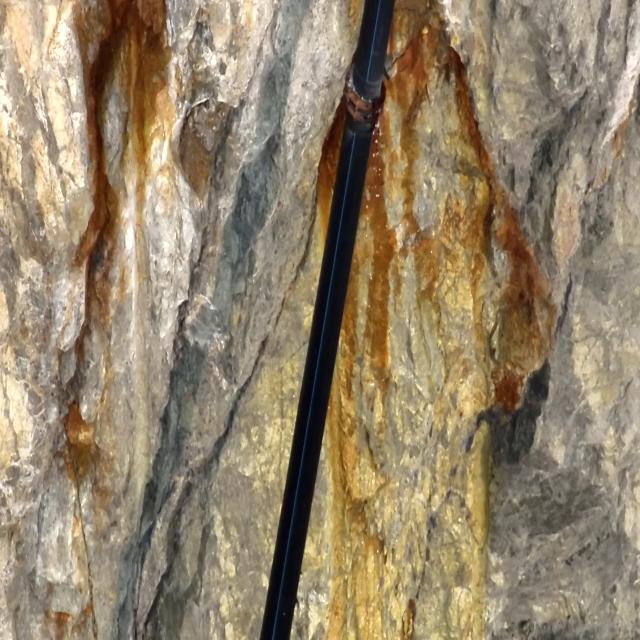leak: (369, 103, 385, 221)
